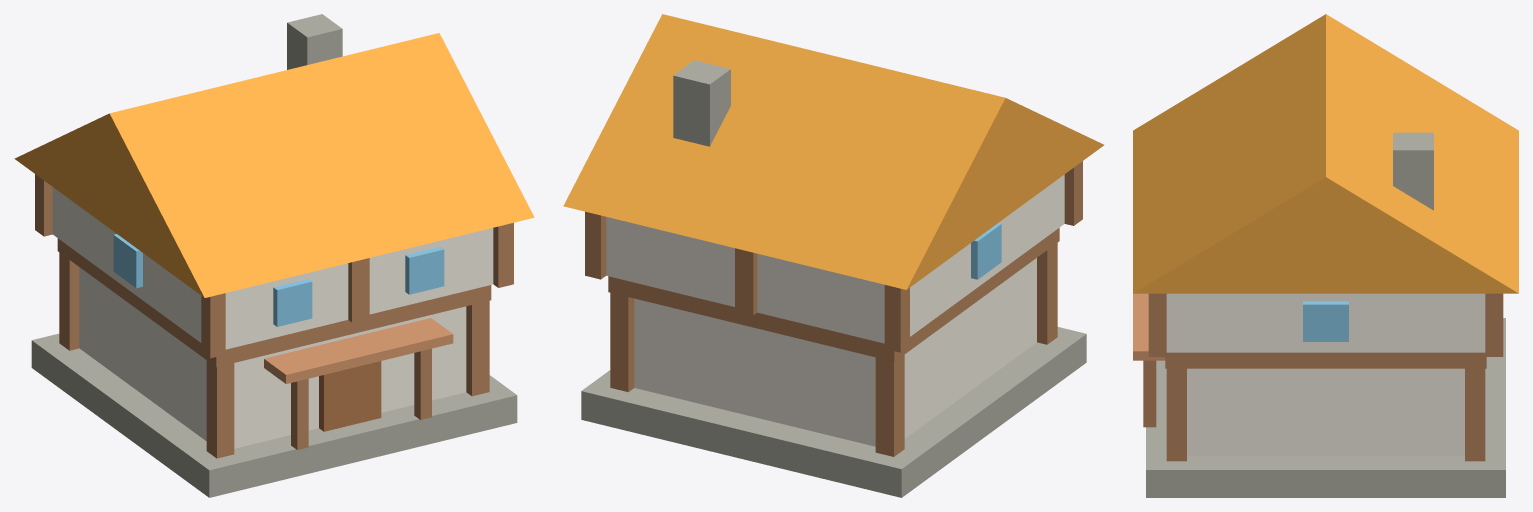
Rendered from house_t2_v4.glb.
The picture shows the model from 3 angles, left to right: view 1: azimuth 30°, elevation 25°; view 2: azimuth 150°, elevation 25°; view 3: azimuth 270°, elevation 25°; orthographic projection. The views are drawn at different scales.
Visible parts, largest first — view 1: house_t2_v4; view 2: house_t2_v4; view 3: house_t2_v4.
Part boxes in pixels (x1=…): house_t2_v4: x1=14, y1=14, x2=534, y2=497; house_t2_v4: x1=563, y1=14, x2=1103, y2=497; house_t2_v4: x1=1133, y1=14, x2=1518, y2=497.
Bounding box in the file's own units: 0.75 × 0.7 × 0.75.
1 material, 1 textured.
